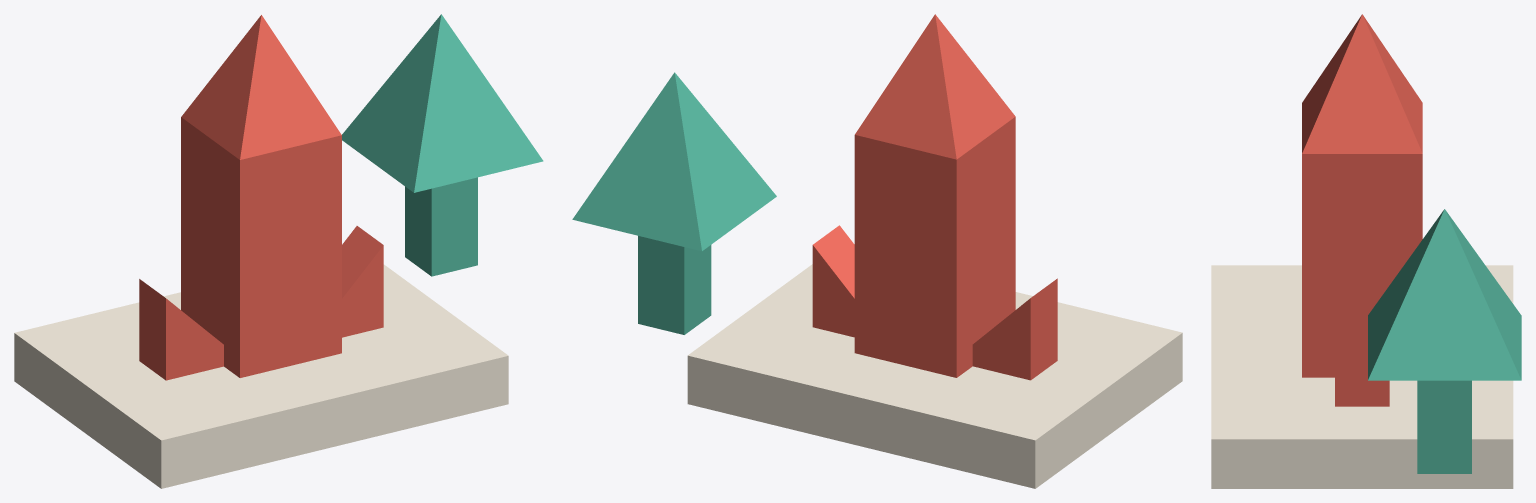
The model's file is rocket.glb.
3 views of the same model, side by side, from view 1: azimuth 30°, elevation 25°; view 2: azimuth 150°, elevation 25°; view 3: azimuth 270°, elevation 25° (orthographic). The views are drawn at different scales.
Visible parts, largest first — view 1: rocket, ground, tree; view 2: rocket, ground, tree; view 3: ground, rocket, tree.
Boxes of the visible parts, left/top/right/bottom form: rocket: left=139, top=15, right=383, bottom=380; ground: left=14, top=264, right=508, bottom=488; tree: left=342, top=14, right=543, bottom=276; rocket: left=812, top=14, right=1057, bottom=380; ground: left=687, top=264, right=1182, bottom=488; tree: left=572, top=72, right=776, bottom=334; ground: left=1211, top=265, right=1513, bottom=488; rocket: left=1302, top=14, right=1422, bottom=406; tree: left=1368, top=209, right=1521, bottom=473.
Size of the model in its own units: 0.198 by 0.156 by 0.113.
